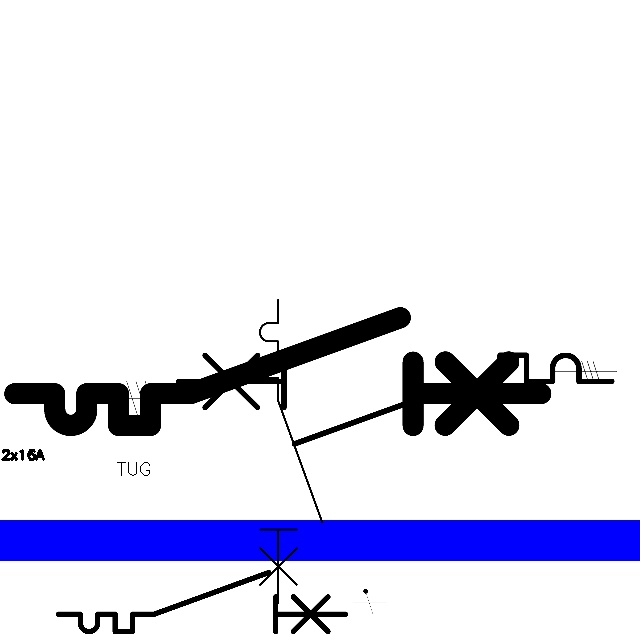interruptor_termomagnetico: (1, 304, 554, 439), (167, 344, 622, 455), (252, 292, 330, 611), (51, 565, 352, 639)
